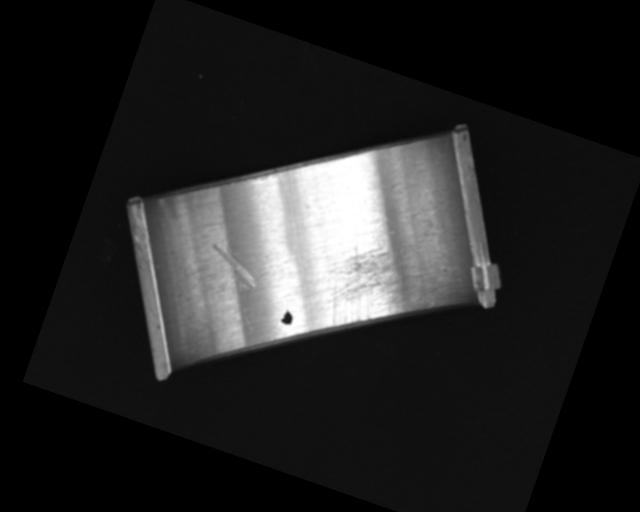blot: (279, 308, 295, 327)
nick: (201, 243, 265, 295), (234, 265, 276, 334)
scratch: (310, 231, 438, 354)
